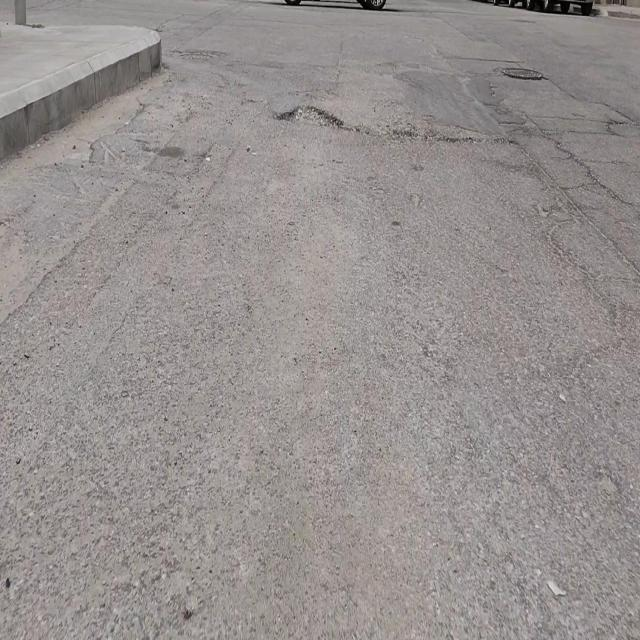Pothole: (276, 102, 344, 131)
